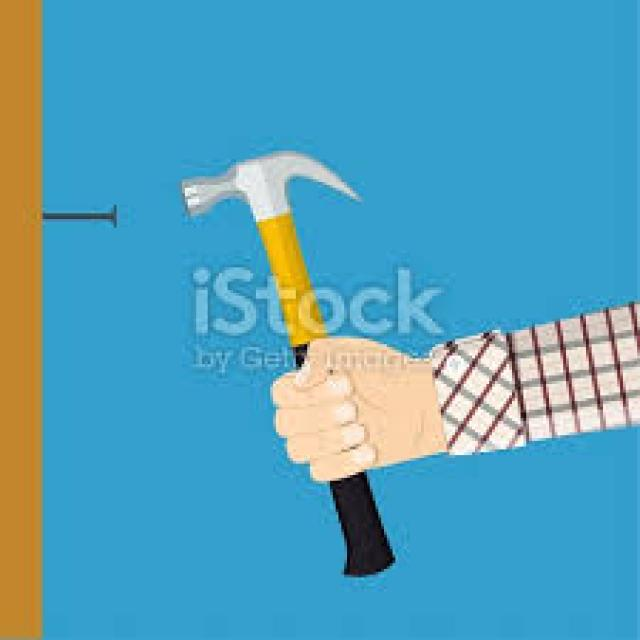hammer: (178, 136, 356, 359)
